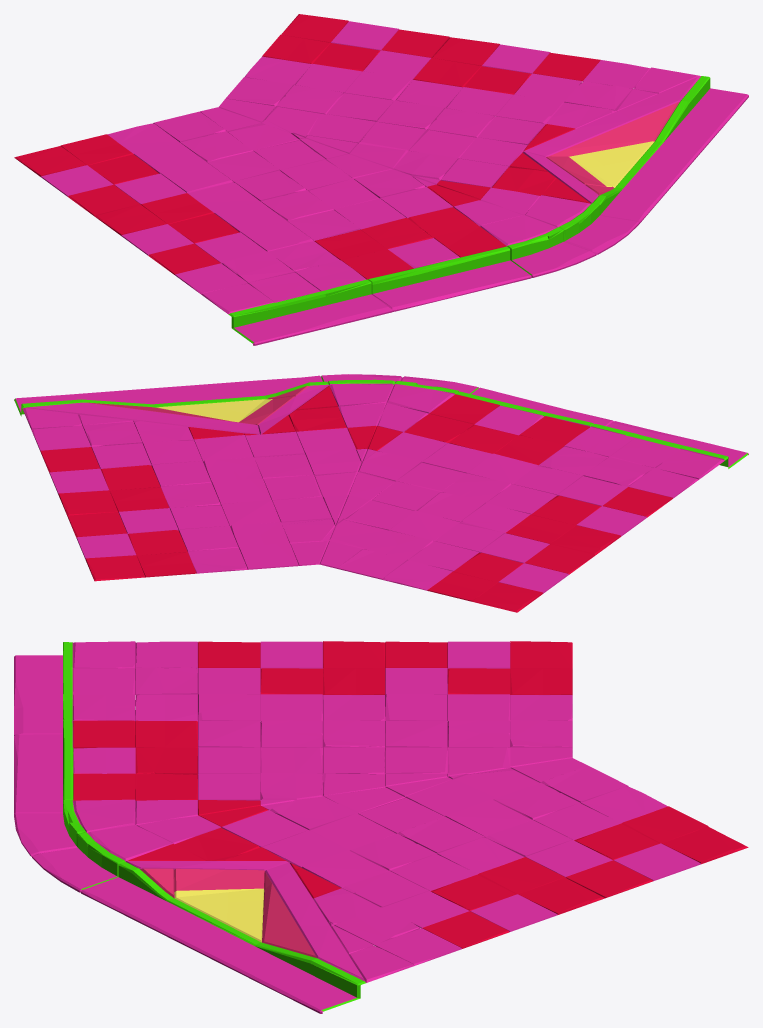
Rendered from Sidewalk12.fbx.
The picture shows the model from 3 angles, top to bottom: view 1: azimuth 30°, elevation 25°; view 2: azimuth 150°, elevation 25°; view 3: azimuth 270°, elevation 25°; orthographic projection. The views are drawn at different scales.
Visible parts, largest first — view 1: SM_Sidewalk_02f.mo; view 2: SM_Sidewalk_02f.mo; view 3: SM_Sidewalk_02f.mo.
Part boxes in pixels (bbox=[...]): SM_Sidewalk_02f.mo: bbox=[14, 14, 748, 345]; SM_Sidewalk_02f.mo: bbox=[14, 374, 748, 612]; SM_Sidewalk_02f.mo: bbox=[14, 641, 748, 1013].
Bounding box in the file's own units: 1350 × 31.15 × 1178.
